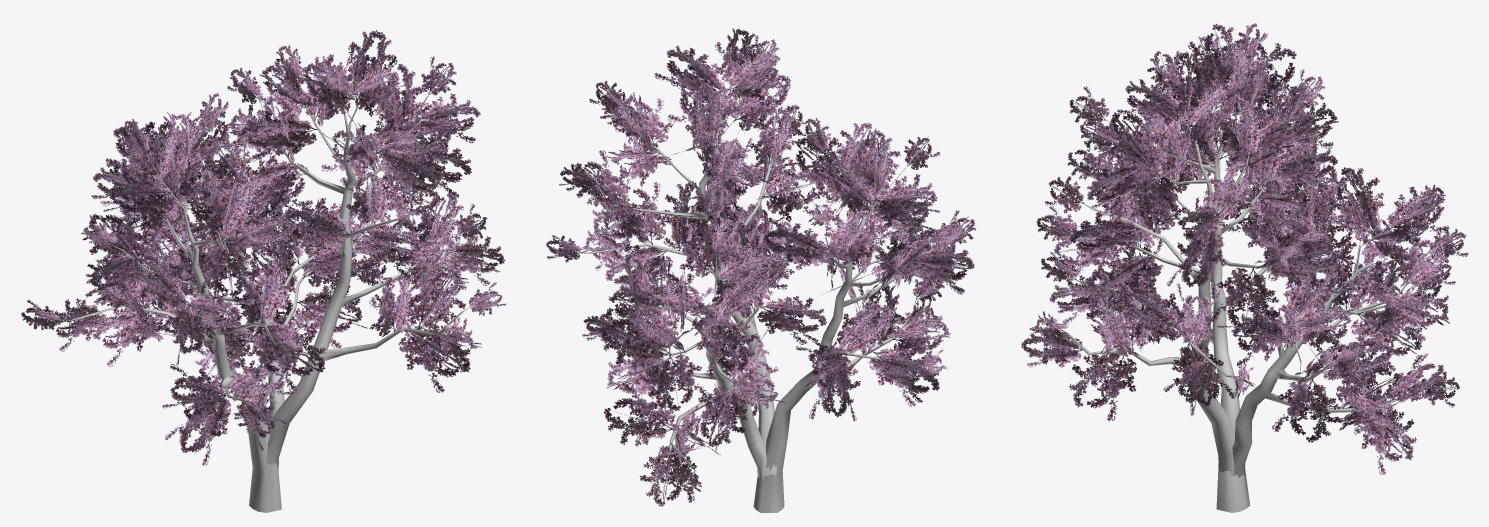
The model's file is TreeWaxCherry-red3.fbx.
3 renders of one model, left to right at view 1: azimuth 30°, elevation 25°; view 2: azimuth 150°, elevation 25°; view 3: azimuth 270°, elevation 25°, orthographic. The views are drawn at different scales.
Visible parts, largest first — view 1: TreeWaxCherry-red3_LOD0; view 2: TreeWaxCherry-red3_LOD0; view 3: TreeWaxCherry-red3_LOD0.
Part boxes in pixels (left/top/right/bottom): TreeWaxCherry-red3_LOD0: left=21, top=30, right=506, bottom=512; TreeWaxCherry-red3_LOD0: left=546, top=28, right=976, bottom=512; TreeWaxCherry-red3_LOD0: left=1021, top=23, right=1468, bottom=512.
Size of what is drawn, in the model's own units: 636 by 632 by 540.
